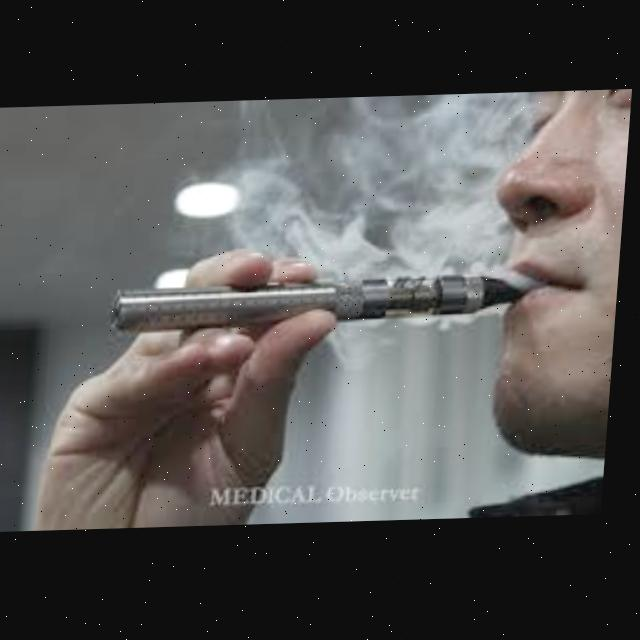vape: (116, 277, 531, 335)
